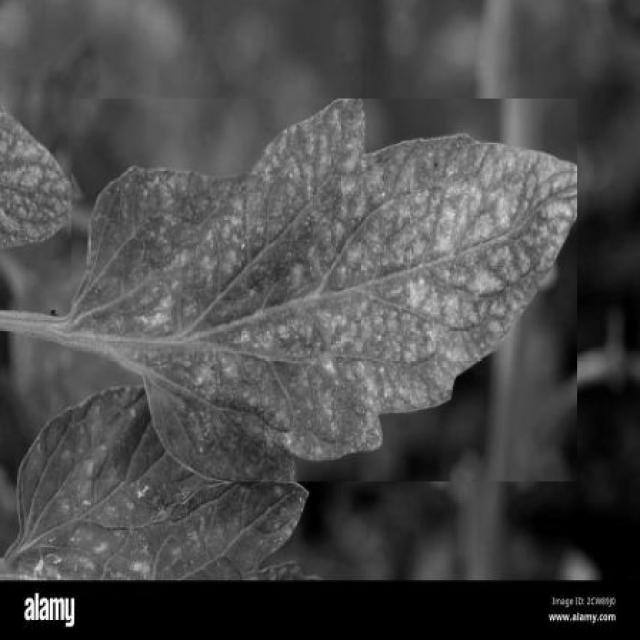Spider Mites: (72, 99, 577, 482)
